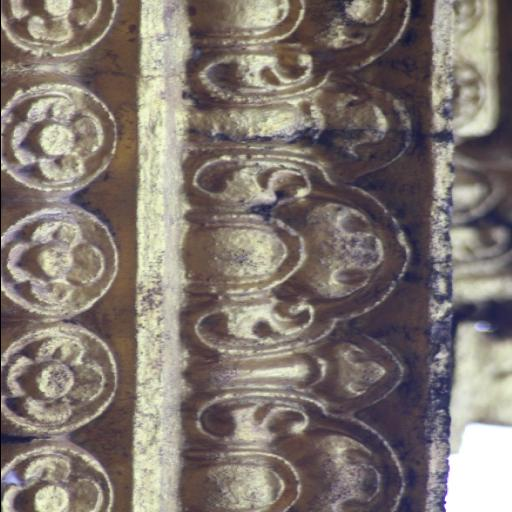hoa: (0, 78, 132, 202), (0, 204, 127, 324), (0, 325, 132, 437), (0, 0, 129, 76), (0, 442, 121, 512)
la: (179, 174, 405, 336), (176, 413, 408, 512), (186, 78, 408, 174), (178, 336, 406, 410), (192, 0, 406, 78)
